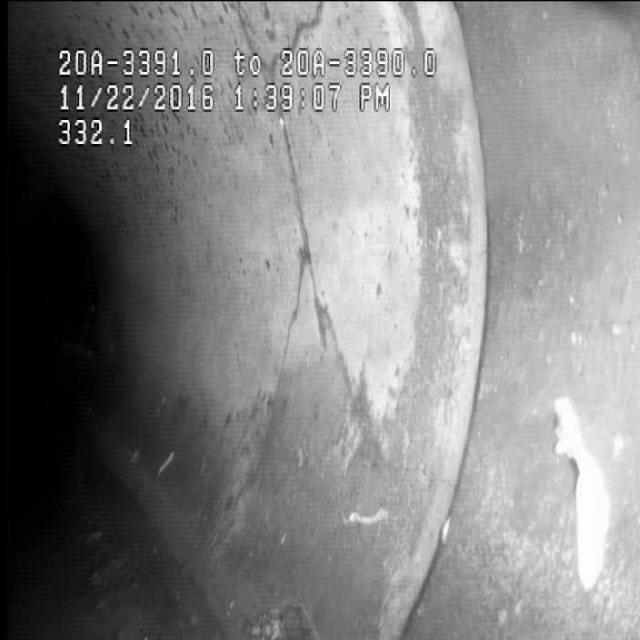Crack: (243, 124, 391, 488)
